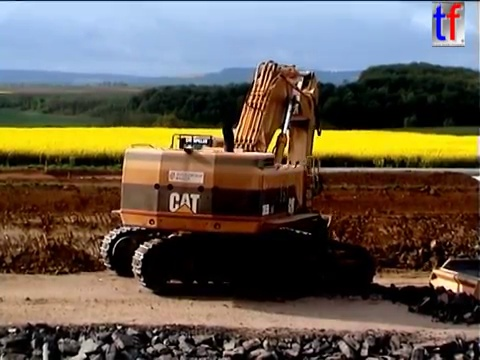excavator: (96, 57, 380, 300)
truck: (424, 253, 480, 305)
